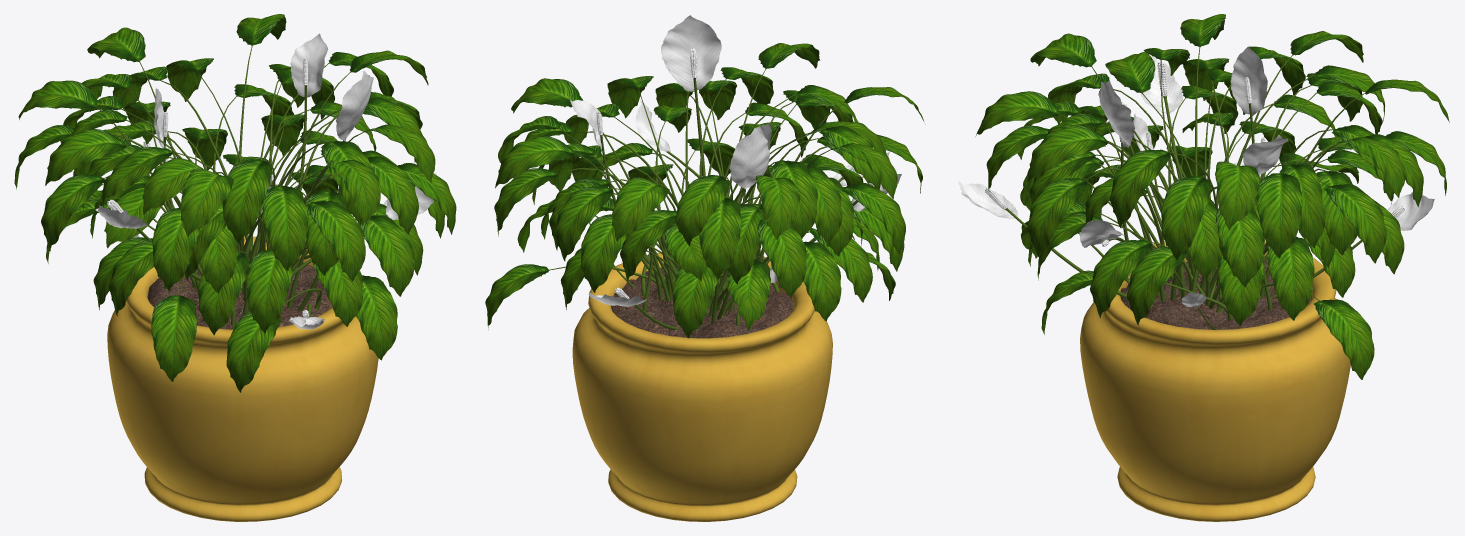
File: peace_lilies.glb
The picture shows the model from 3 angles, left to right: view 1: azimuth 30°, elevation 25°; view 2: azimuth 150°, elevation 25°; view 3: azimuth 270°, elevation 25°; orthographic projection. The views are drawn at different scales.
Parts seen in each view (by area): view 1: Object_8, Object_5, Object_7, Object_11, Object_4; view 2: Object_8, Object_5, Object_7, Object_11, Object_4; view 3: Object_8, Object_5, Object_7, Object_11, Object_4, Object_10.
Part boxes in pixels (x1,y1,x2,y2): Object_8: [14, 14, 456, 392]; Object_5: [107, 236, 378, 521]; Object_7: [97, 45, 387, 329]; Object_11: [95, 33, 436, 329]; Object_4: [147, 257, 332, 329]; Object_8: [485, 43, 925, 338]; Object_5: [572, 252, 832, 521]; Object_7: [550, 69, 857, 330]; Object_11: [569, 15, 901, 306]; Object_4: [611, 267, 794, 338]; Object_8: [975, 14, 1449, 379]; Object_5: [1080, 240, 1350, 521]; Object_7: [1005, 47, 1363, 329]; Object_11: [958, 46, 1434, 307]; Object_4: [1120, 258, 1311, 329]; Object_10: [985, 62, 1405, 246].
Bounding box in the file's own units: 1.19 × 1.27 × 1.31.
6 materials, 4 textured.
